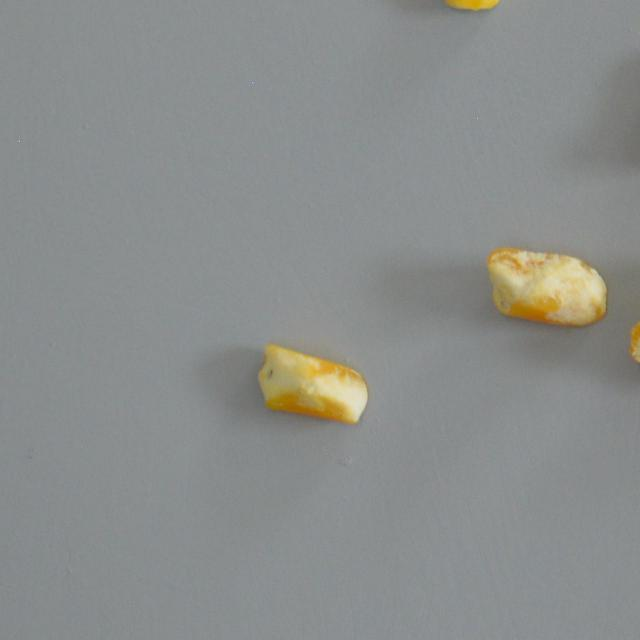pelicula: (486, 242, 608, 330)
punto_negro: (254, 341, 375, 426), (624, 250, 640, 385)
